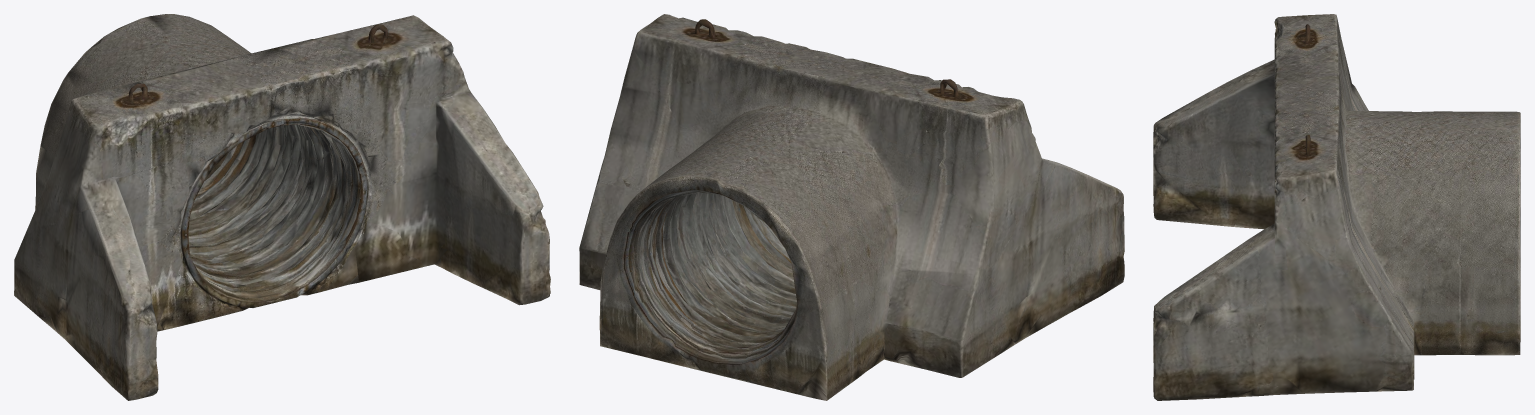
The model's file is culvert.glb.
The picture shows the model from 3 angles, left to right: view 1: azimuth 30°, elevation 25°; view 2: azimuth 150°, elevation 25°; view 3: azimuth 270°, elevation 25°; orthographic projection. The views are drawn at different scales.
Parts seen in each view (by area): view 1: culvert; view 2: culvert; view 3: culvert.
Part boxes in pixels (x1=…): culvert: x1=14, y1=14, x2=550, y2=400; culvert: x1=579, y1=14, x2=1124, y2=400; culvert: x1=1153, y1=14, x2=1520, y2=400.
Bounding box in the file's own units: 1.9 × 1.02 × 1.51.
Materials: 1 (1 with a texture image).
